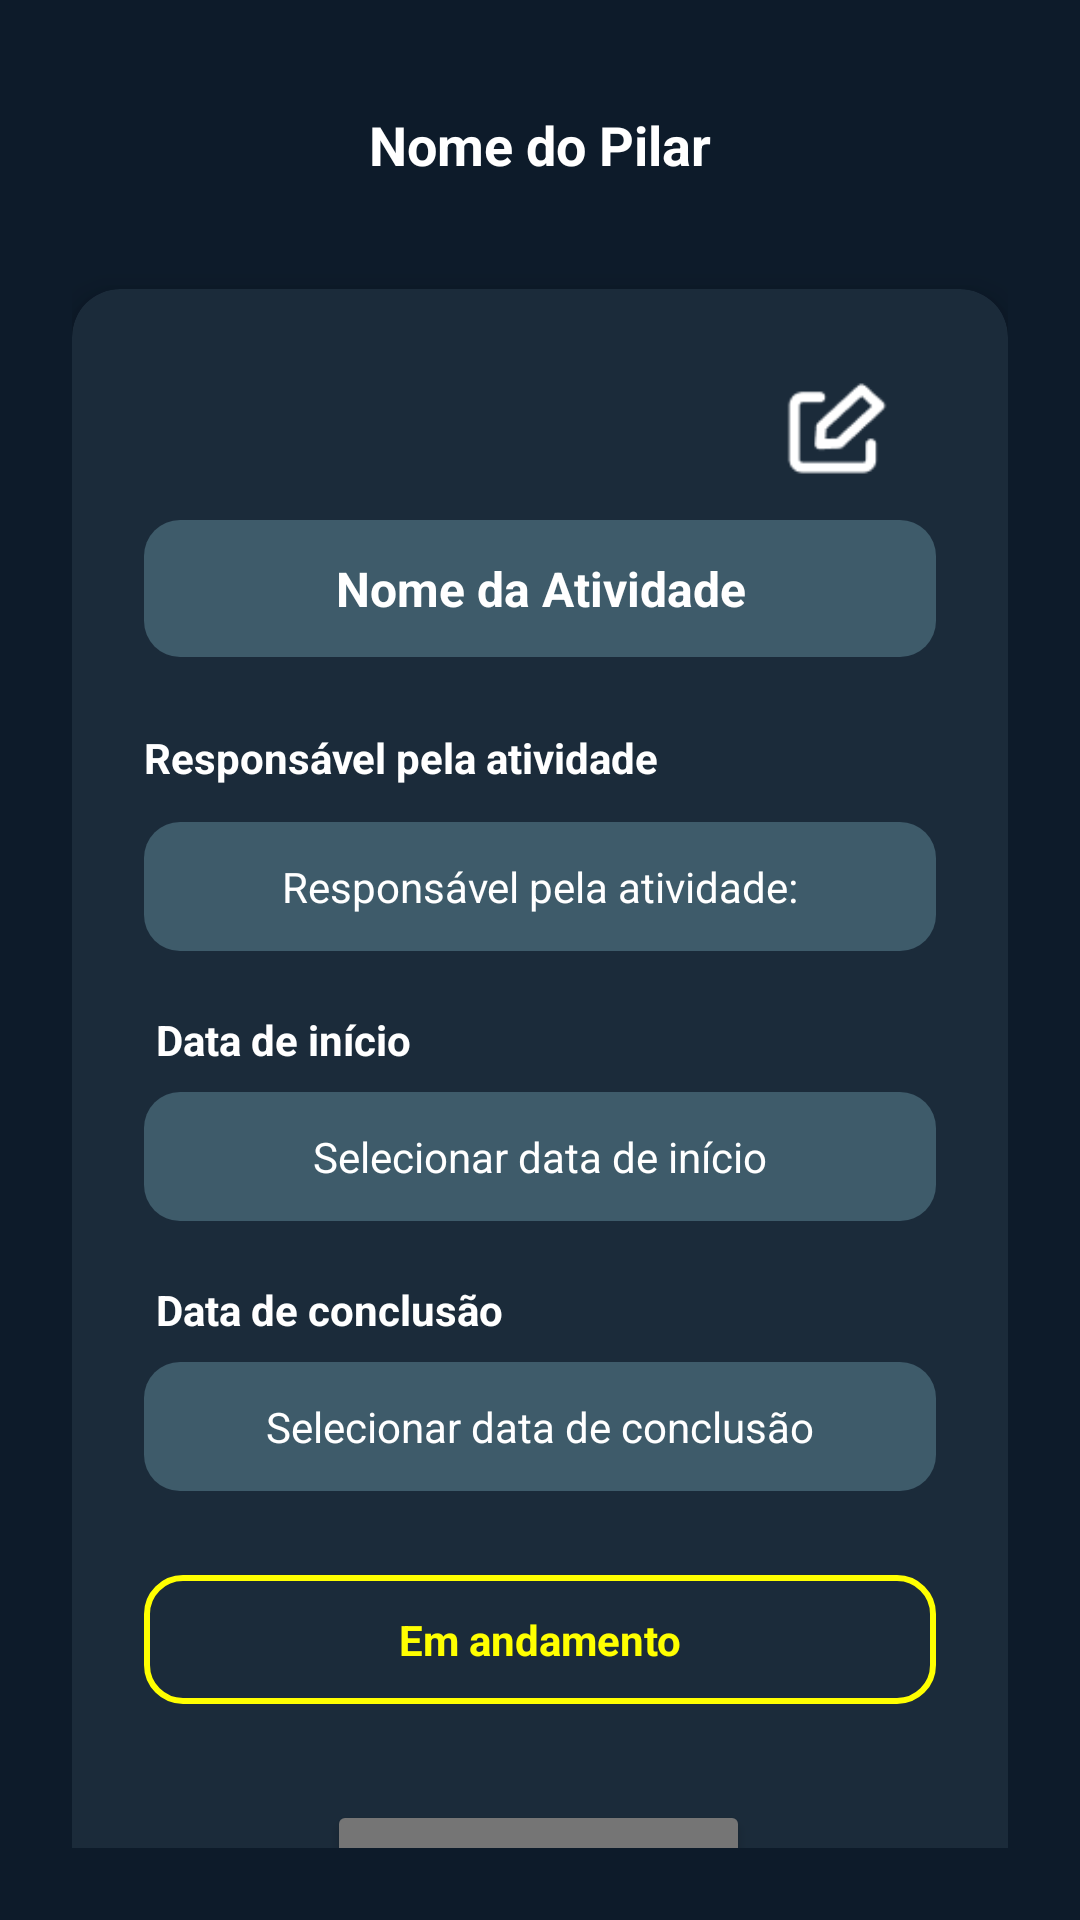

Named icons in this screenshot (1080 × 1920) and their bounding boxes, detection(x1, y1, x2, y2):
Editar: detection(788, 383, 886, 474)
